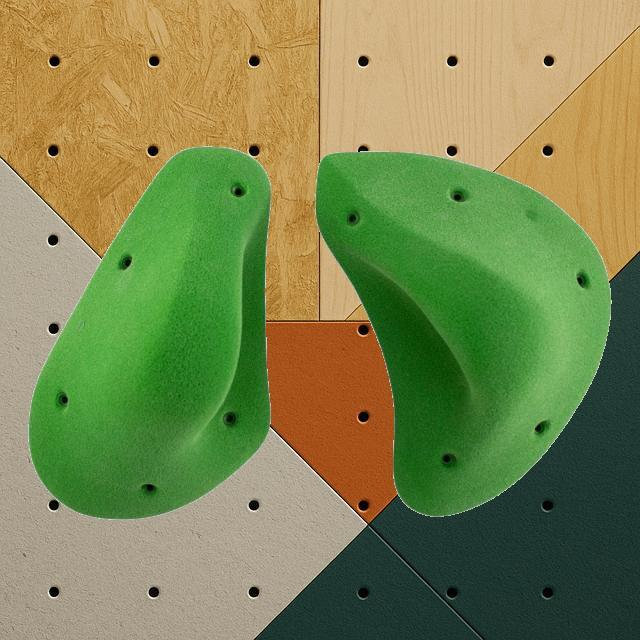Jug: (314, 149, 612, 517), (28, 145, 272, 519)
